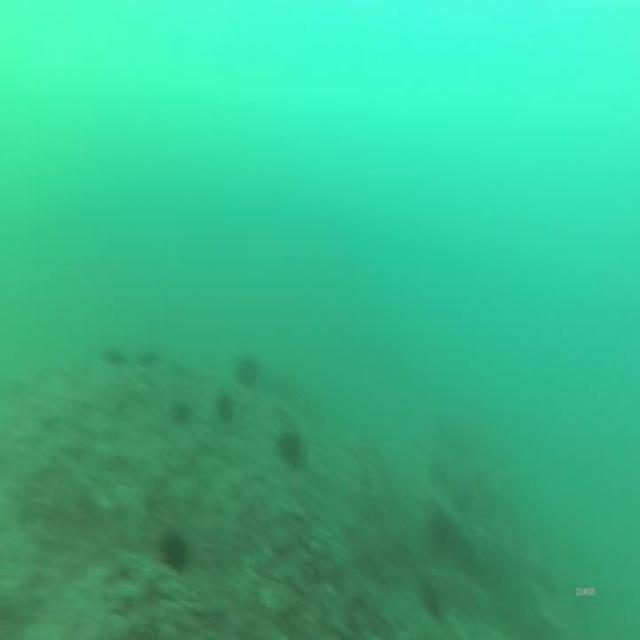echinus: (156, 524, 191, 576), (276, 423, 304, 472), (418, 577, 444, 621), (168, 395, 192, 430), (214, 389, 234, 430), (132, 344, 162, 370), (235, 356, 257, 390), (100, 341, 124, 370)
